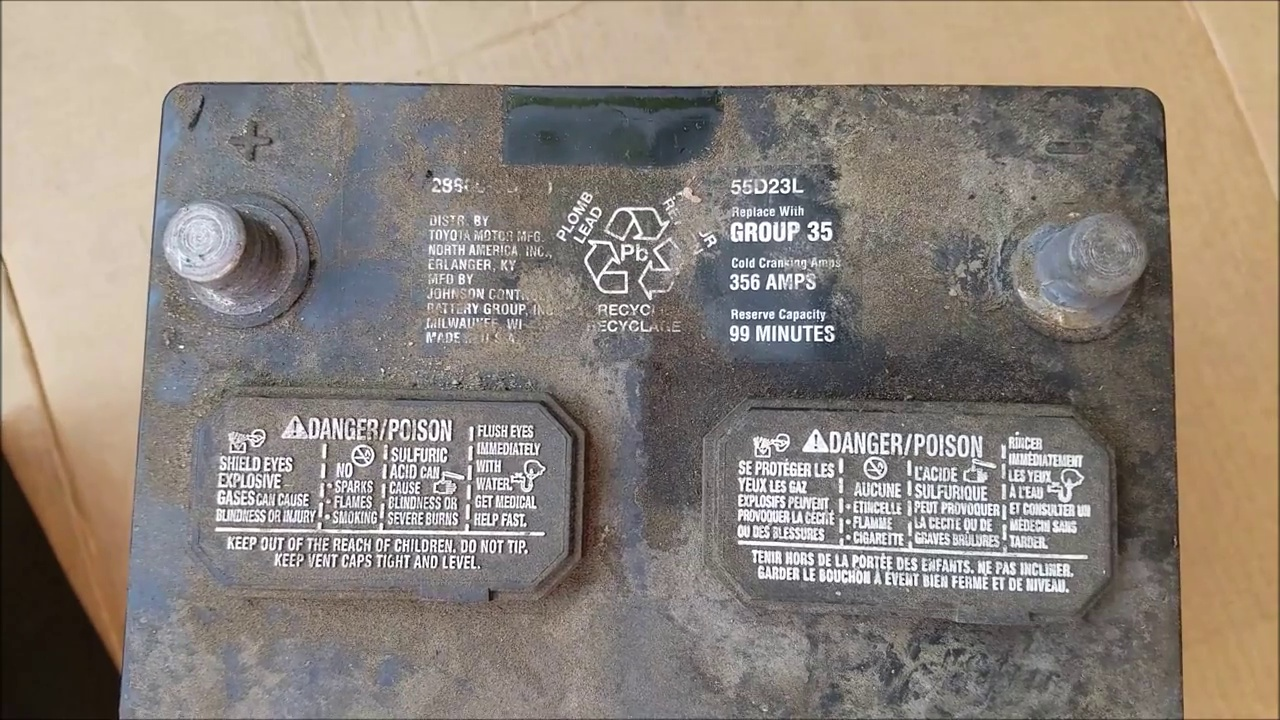battery: (154, 93, 1190, 720)
